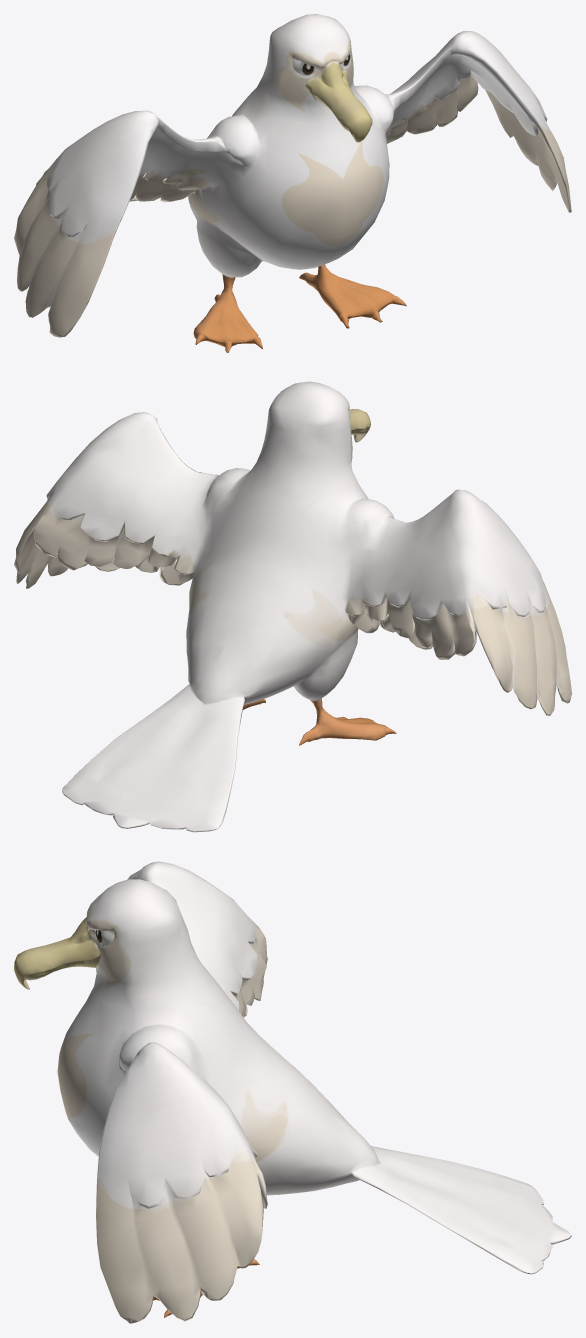
The model's file is Pok39. Seaglide.glb.
3 views of the same model, one above another, from view 1: azimuth 30°, elevation 25°; view 2: azimuth 150°, elevation 25°; view 3: azimuth 270°, elevation 25° (orthographic). The views are drawn at different scales.
Size of the model in its own units: 0.9546 by 0.5713 by 0.7646.
1 material, 1 textured.
